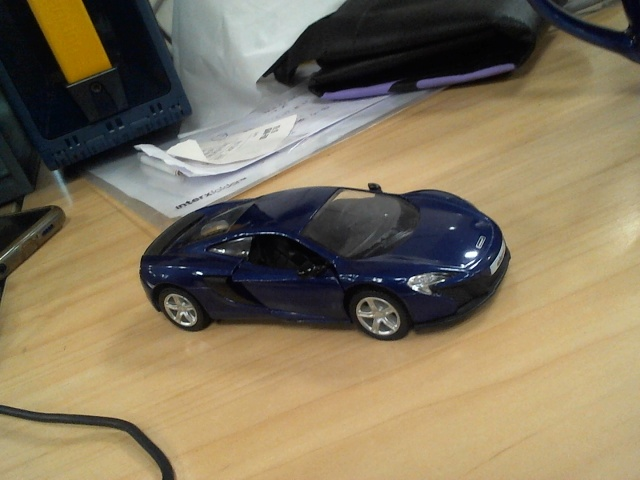car: (138, 183, 512, 341)
